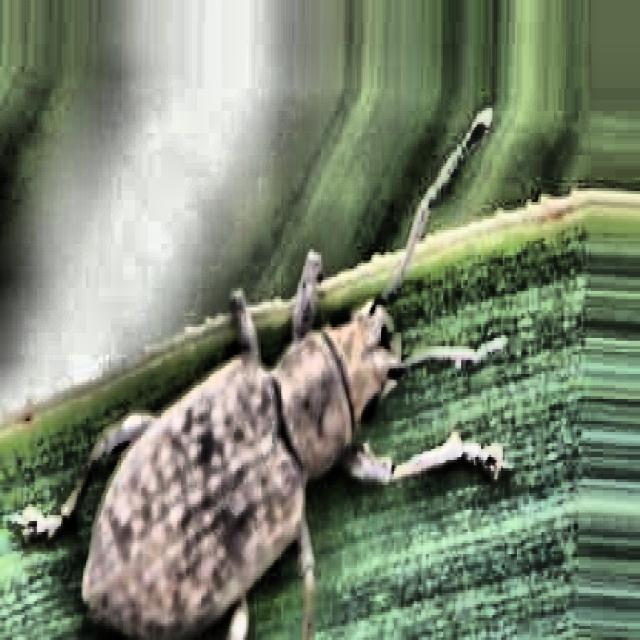Stink bug: (58, 77, 513, 640)
